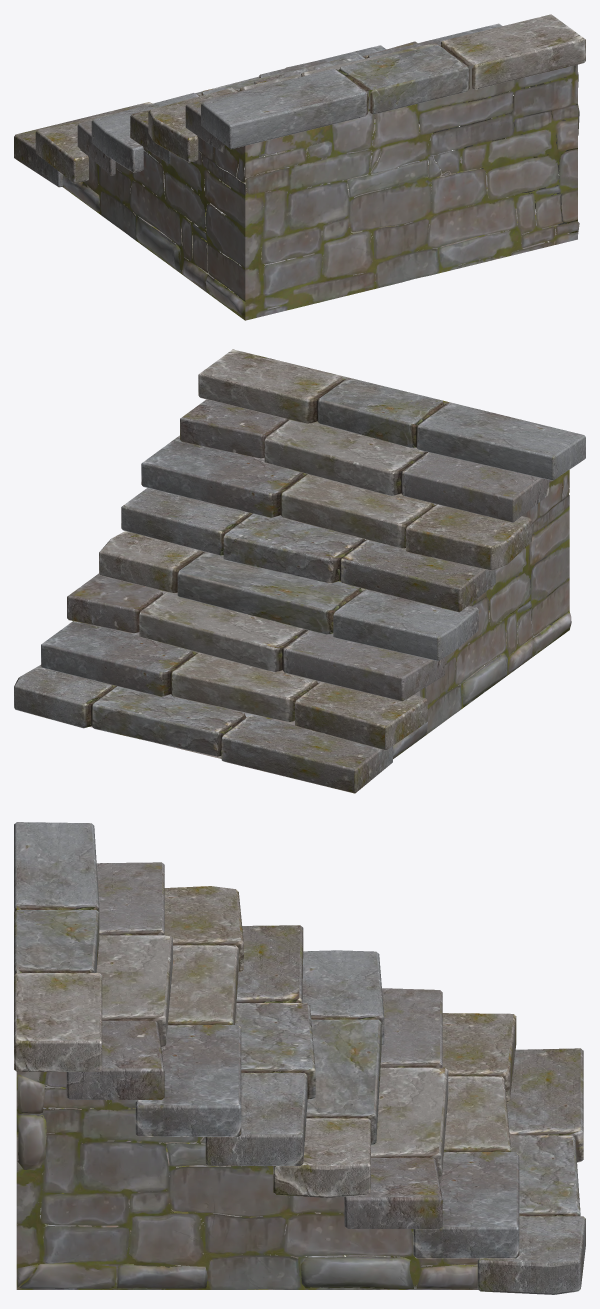
3 renders of one model, top to bottom at view 1: azimuth 30°, elevation 25°; view 2: azimuth 150°, elevation 25°; view 3: azimuth 270°, elevation 25°, orthographic. The views are drawn at different scales.
Visible parts, largest first — view 1: SM_Castle_Steps_4x2_01_v4_LOD0; view 2: SM_Castle_Steps_4x2_01_v4_LOD0; view 3: SM_Castle_Steps_4x2_01_v4_LOD0.
Boxes of the visible parts, bbox=[...] form: SM_Castle_Steps_4x2_01_v4_LOD0: bbox=[14, 14, 585, 320]; SM_Castle_Steps_4x2_01_v4_LOD0: bbox=[14, 349, 585, 793]; SM_Castle_Steps_4x2_01_v4_LOD0: bbox=[14, 822, 585, 1294].
Bounding box in the file's own units: 3.77 × 2 × 4.1.
Materials: 2 (2 with a texture image).
